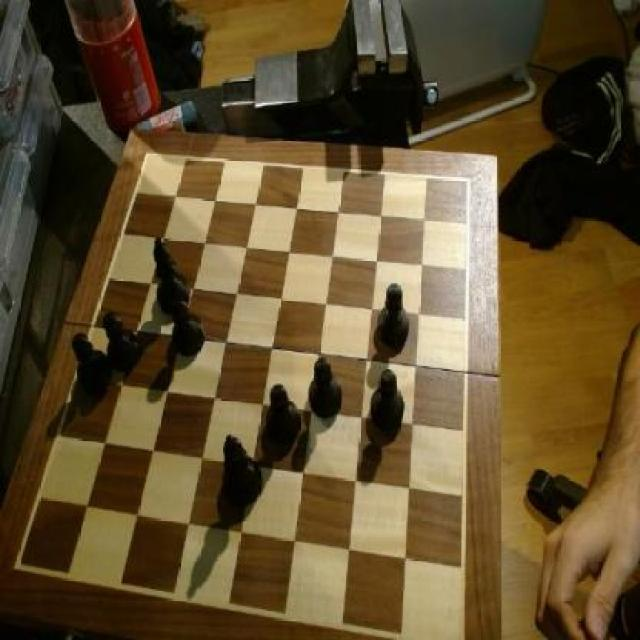bishop: (218, 432, 262, 510), (149, 234, 189, 316)
black-knight: (262, 382, 302, 452), (375, 282, 413, 352), (366, 369, 406, 433), (168, 291, 205, 358), (102, 308, 139, 372), (74, 335, 112, 397), (308, 356, 344, 420)
